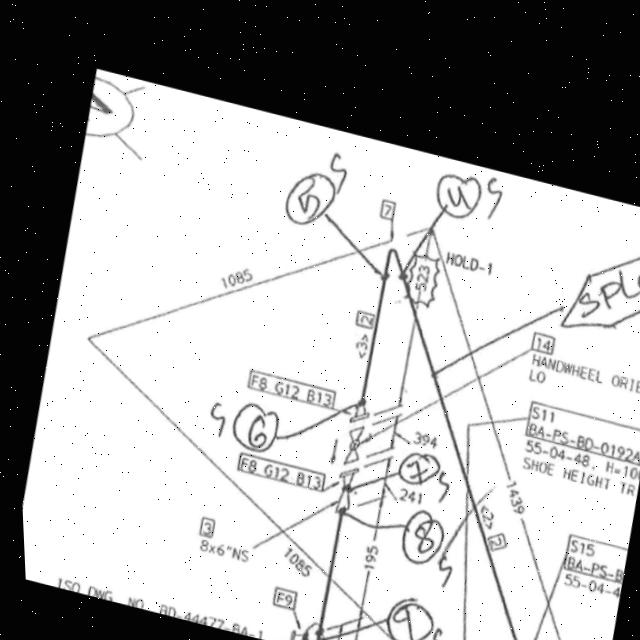Item number: (518, 391, 640, 461), (229, 446, 325, 494), (245, 365, 336, 409), (556, 525, 623, 580), (264, 580, 295, 609), (526, 323, 555, 352), (350, 303, 373, 328), (192, 511, 213, 538), (375, 191, 396, 218), (481, 526, 503, 546)
Measrement: (421, 220, 563, 640), (341, 492, 384, 640), (271, 534, 319, 581), (381, 408, 436, 449), (191, 533, 248, 566), (374, 474, 425, 507), (213, 260, 259, 295)
Pipeline: (353, 240, 521, 640), (305, 510, 343, 640)
Symbol: (324, 458, 362, 515), (374, 235, 412, 289), (336, 417, 365, 466), (275, 613, 324, 640), (341, 393, 372, 427)
Weld number: (274, 156, 338, 234), (388, 497, 444, 569), (425, 160, 486, 225), (220, 392, 280, 457), (373, 585, 437, 640), (388, 440, 442, 490)
other: (46, 570, 262, 638), (510, 430, 637, 496), (523, 344, 640, 406), (554, 564, 616, 597)
